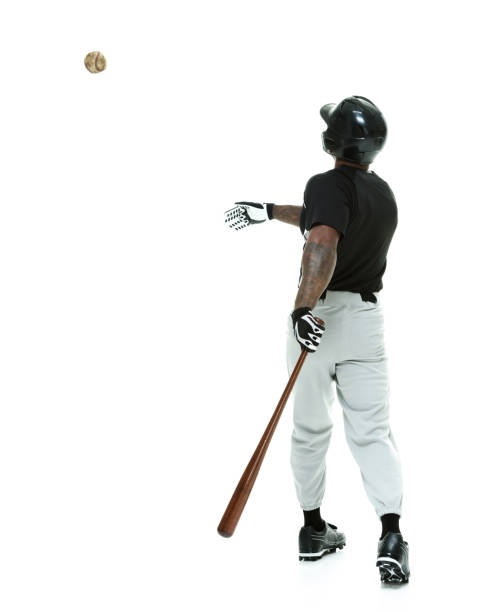bita: (218, 333, 323, 538)
